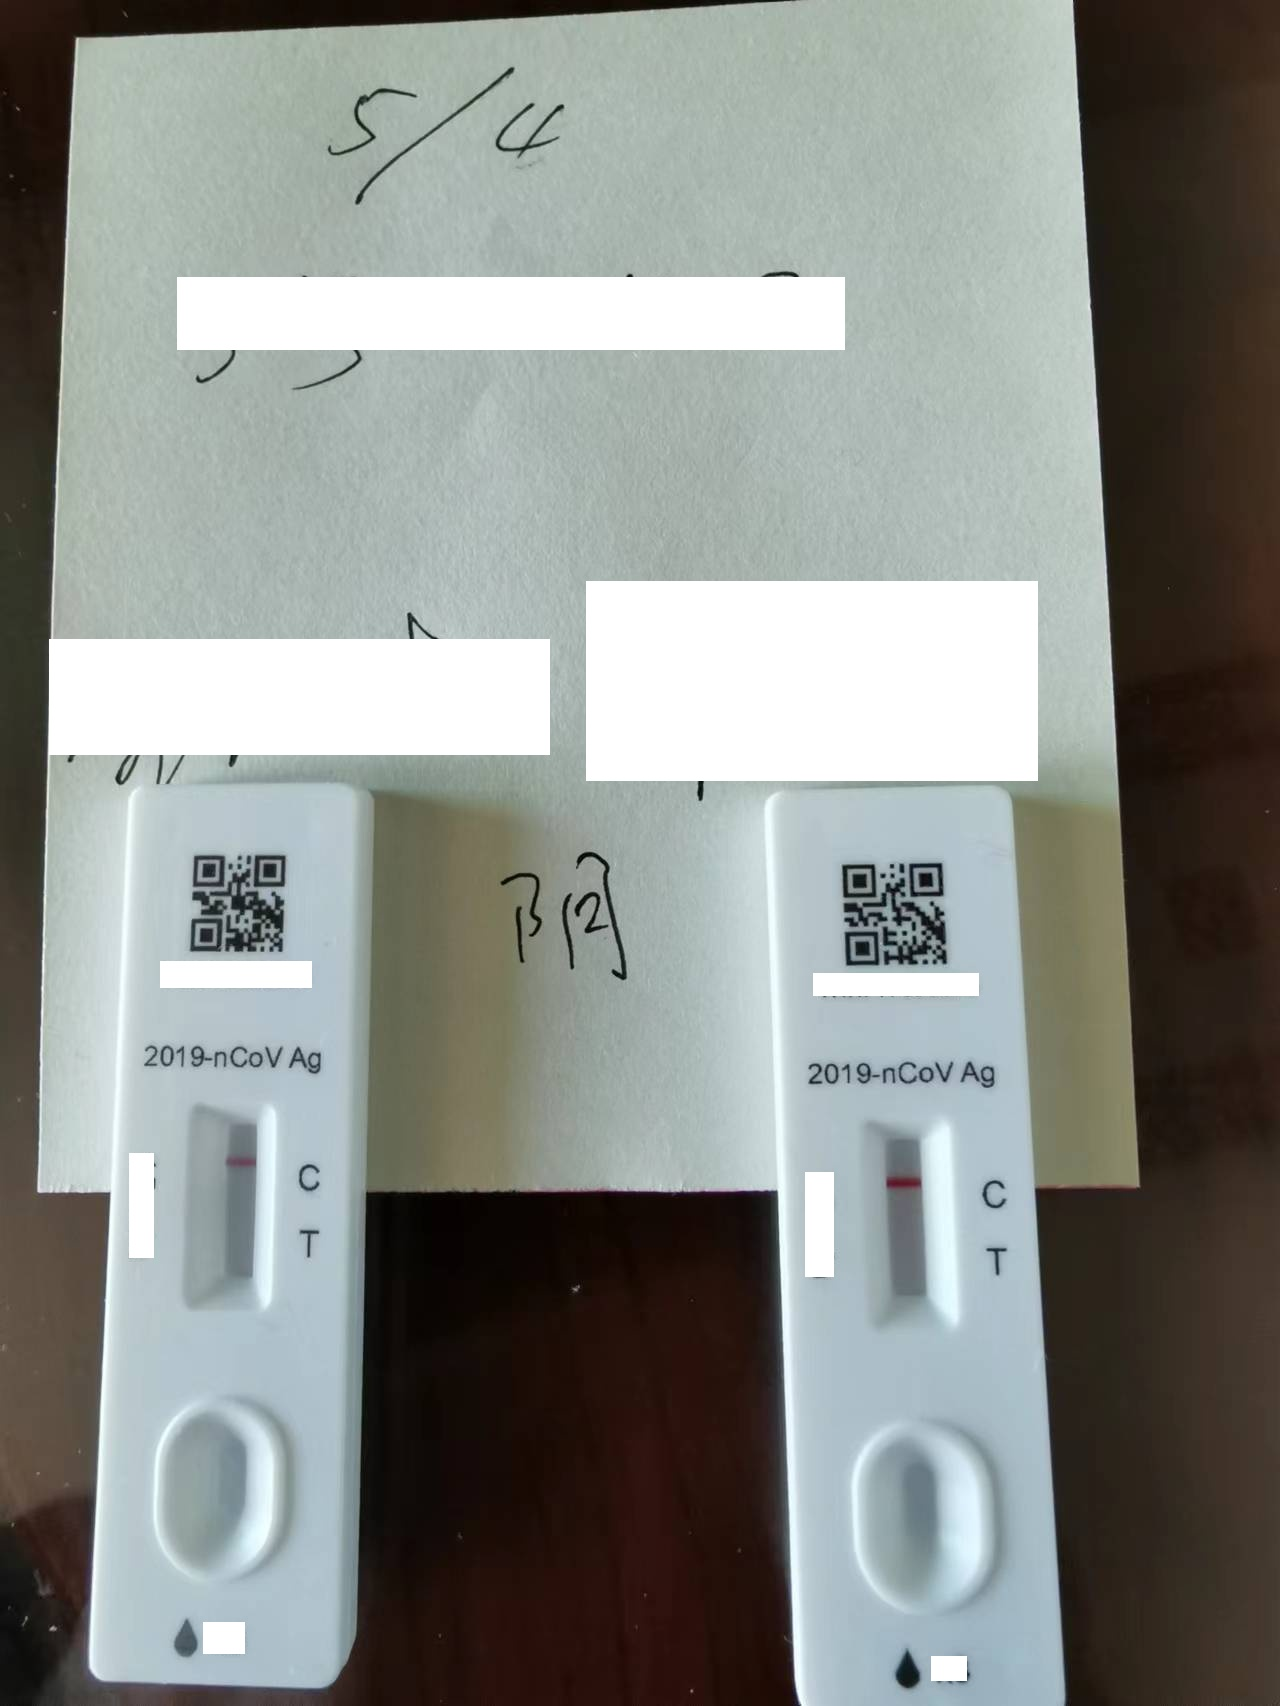negative: (865, 1114, 949, 1336), (184, 1104, 272, 1317)
